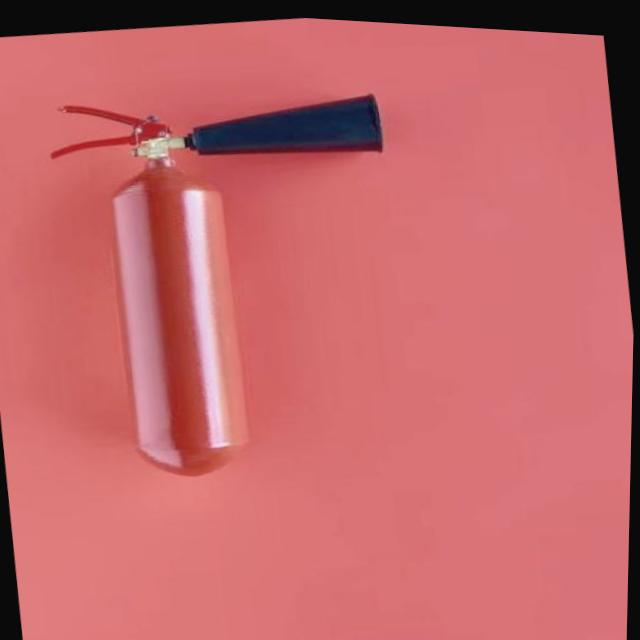FireExtinguisher: (31, 51, 438, 499)
